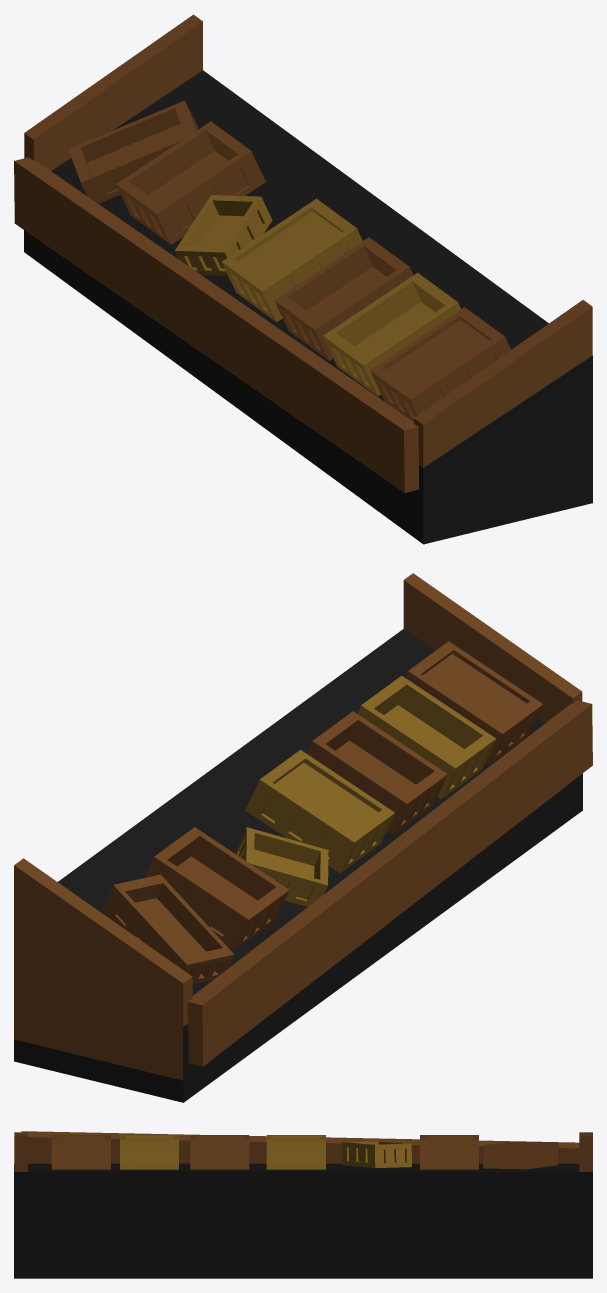
File: market_stalls.glb
3 renders of one model, top to bottom at view 1: azimuth 30°, elevation 25°; view 2: azimuth 150°, elevation 25°; view 3: azimuth 270°, elevation 25°, orthographic. The views are drawn at different scales.
Visible parts, largest first — view 1: Cube.010, Cube.013, Cube.012, Cube.011, Cube.020, Cube.019, Cube.014, Cube.016, Cube.015, Cube.018, Cube.017; view 2: Cube.010, Cube.013, Cube.011, Cube.019, Cube.020, Cube.016, Cube.012, Cube.015, Cube.018, Cube.014, Cube.017; view 3: Cube.010, Cube.013, Cube.014, Cube.016, Cube.019, Cube.015, Cube.020, Cube.018, Cube.017, Cube.011, Cube.012.
Boxes of the visible parts, x1,y1,x2,y2 form: Cube.010: (24,70,592,544); Cube.013: (14,157,419,492); Cube.012: (414,300,592,467); Cube.011: (24,14,202,170); Cube.020: (116,121,265,244); Cube.019: (222,198,362,322); Cube.014: (370,307,511,421); Cube.016: (274,237,413,360); Cube.015: (323,272,460,396); Cube.018: (68,100,198,203); Cube.017: (175,195,272,275); Cube.010: (14,629,582,1102); Cube.013: (187,700,592,1066); Cube.011: (14,858,192,1080); Cube.019: (245,750,394,873); Cube.020: (144,827,289,950); Cube.016: (306,711,447,834); Cube.012: (403,573,582,722); Cube.015: (357,675,495,799); Cube.018: (102,874,234,984); Cube.014: (405,641,543,764); Cube.017: (235,827,328,906); Cube.010: (14,1163,592,1278); Cube.013: (21,1131,579,1163); Cube.014: (51,1135,110,1169); Cube.016: (190,1135,249,1169); Cube.019: (266,1135,325,1169); Cube.015: (120,1135,178,1169); Cube.020: (420,1135,478,1169); Cube.018: (483,1141,558,1169); Cube.017: (342,1141,411,1167); Cube.011: (579,1132,592,1171); Cube.012: (14,1132,27,1171).
Size of the model in its own units: 0.4496 by 0.4586 by 1.69.
